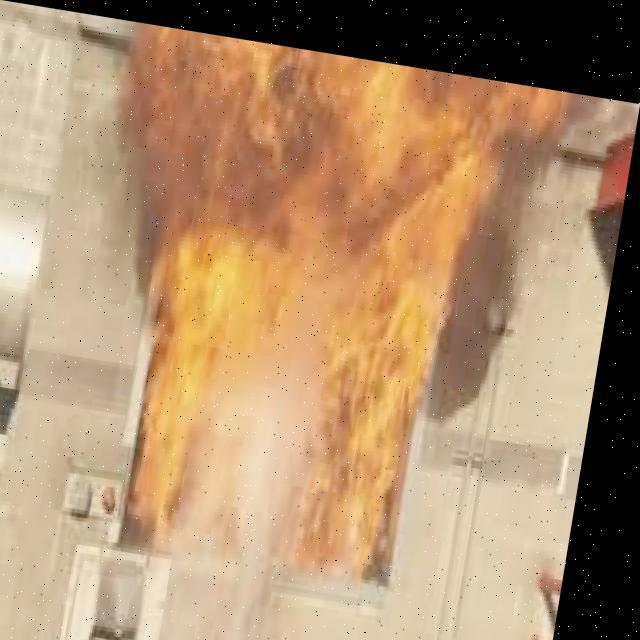Fire: (62, 20, 494, 592)
